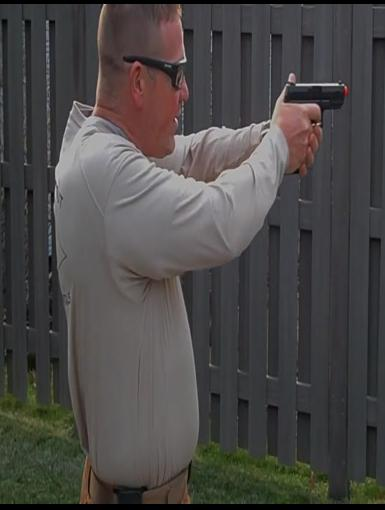pistol: (278, 74, 350, 174)
